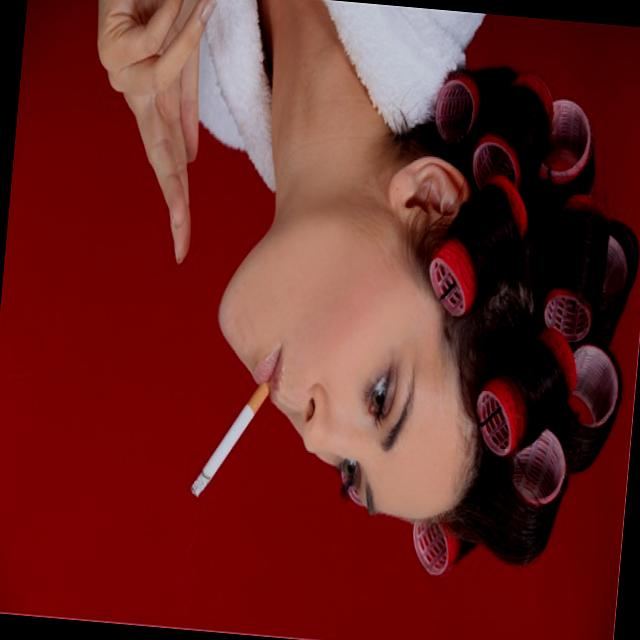smoke: (190, 381, 266, 505)
